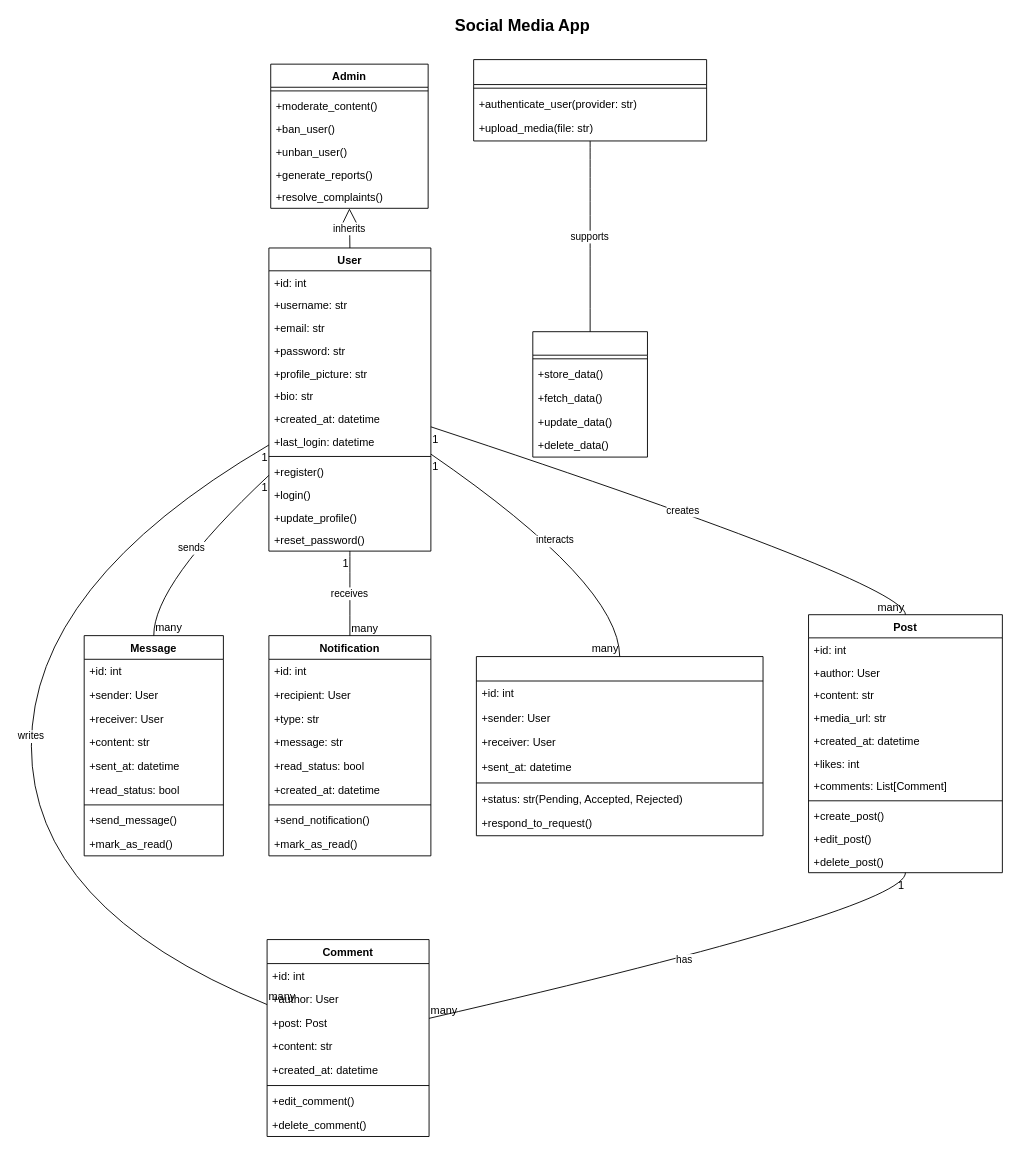
The diagram is 1018 pixels wide and 1155 high, and some of its shapes have lost their labels. The shapes that lost their labels are listed below. From the top down, each one's box as (x1, y1, x2, y2) in pixels, then its label:
(473, 59, 707, 141): ExternalSystem
(532, 331, 647, 457): Database
(475, 656, 763, 836): FriendRequest
